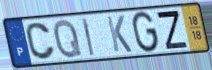C: (25, 21, 57, 61)
G: (131, 10, 161, 55)
I: (81, 17, 96, 58)
K: (105, 14, 134, 53)
Q: (52, 18, 84, 61)
Z: (154, 9, 190, 51)
